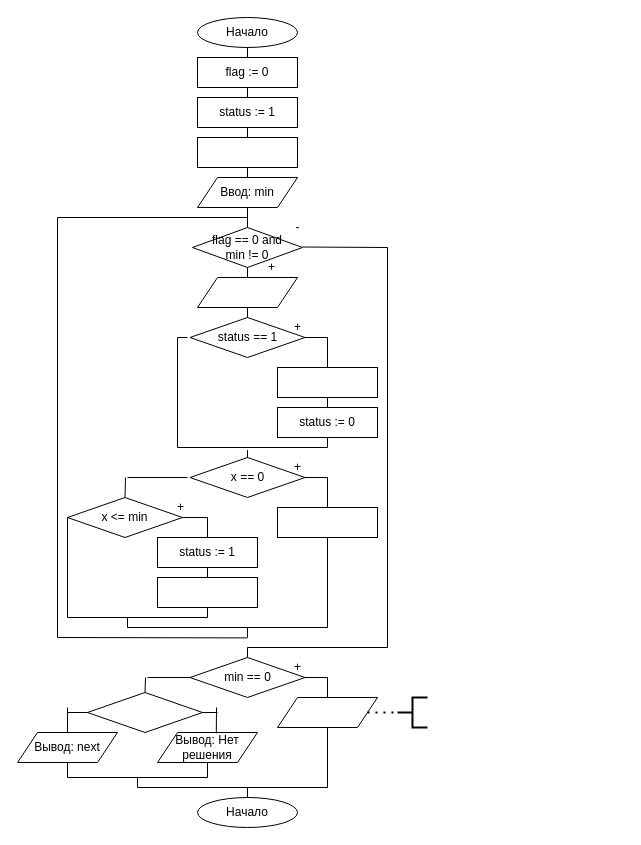
Some shapes in this 641 by 845 pixel diagram are drawn without their labels. The shapes that lost their labels are listed below. From the top down, each one's centre as x and y in pixels, then its label:
pixel 247 152: next := 0
pixel 247 292: Ввод: x
pixel 327 382: next := x
pixel 327 522: flag := 1
pixel 207 592: min := x
pixel 144 712: next == 0
pixel 412 712: Вывод. Последовательность пуста
